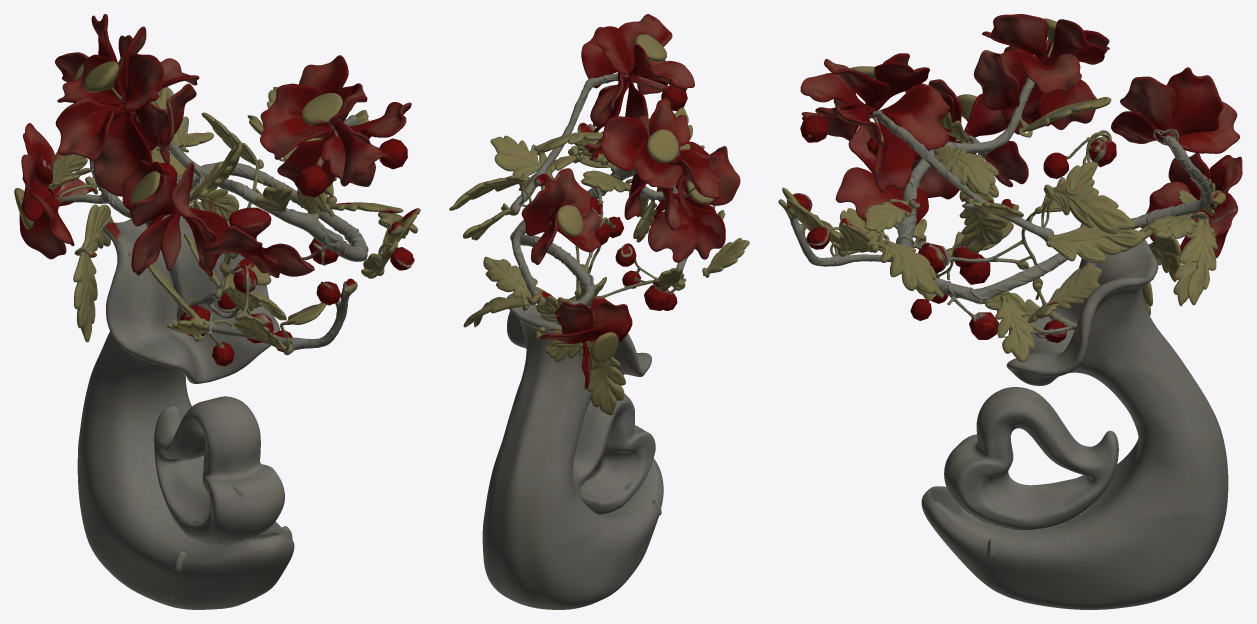
File: flower-metal-sculpture.glb
The picture shows the model from 3 angles, left to right: view 1: azimuth 30°, elevation 25°; view 2: azimuth 150°, elevation 25°; view 3: azimuth 270°, elevation 25°; orthographic projection. The views are drawn at different scales.
Visible parts, largest first — view 1: tripo_node_d467bcfb-e88e-4479-8cf7-046dac9aa74f; view 2: tripo_node_d467bcfb-e88e-4479-8cf7-046dac9aa74f; view 3: tripo_node_d467bcfb-e88e-4479-8cf7-046dac9aa74f.
Boxes of the visible parts, bbox=[...] form: tripo_node_d467bcfb-e88e-4479-8cf7-046dac9aa74f: bbox=[14, 14, 420, 609]; tripo_node_d467bcfb-e88e-4479-8cf7-046dac9aa74f: bbox=[449, 14, 749, 609]; tripo_node_d467bcfb-e88e-4479-8cf7-046dac9aa74f: bbox=[778, 14, 1242, 609].
Size of the model in its own units: 0.5157 by 0.9803 by 0.738.
Materials: 1 (1 with a texture image).
